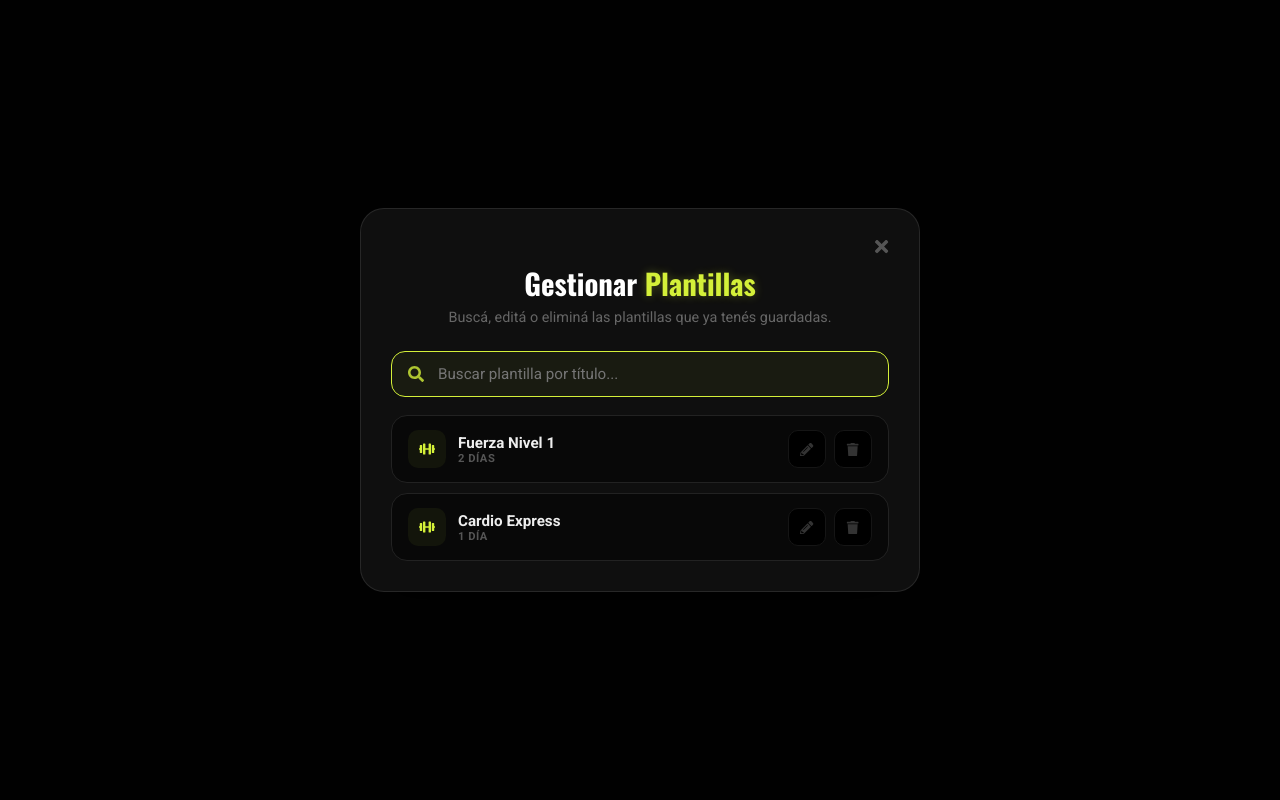
it: PlantillasModal — render y búsqueda › la búsqueda filtra por coincidencia parcial, sin importar mayúsculas/minúsculas
This screenshot has width=1280, height=800.
Step 1. Type "cardio" into the field with placeholder "Buscar plantilla por título..." → [654, 374], box [436,364,872,384]
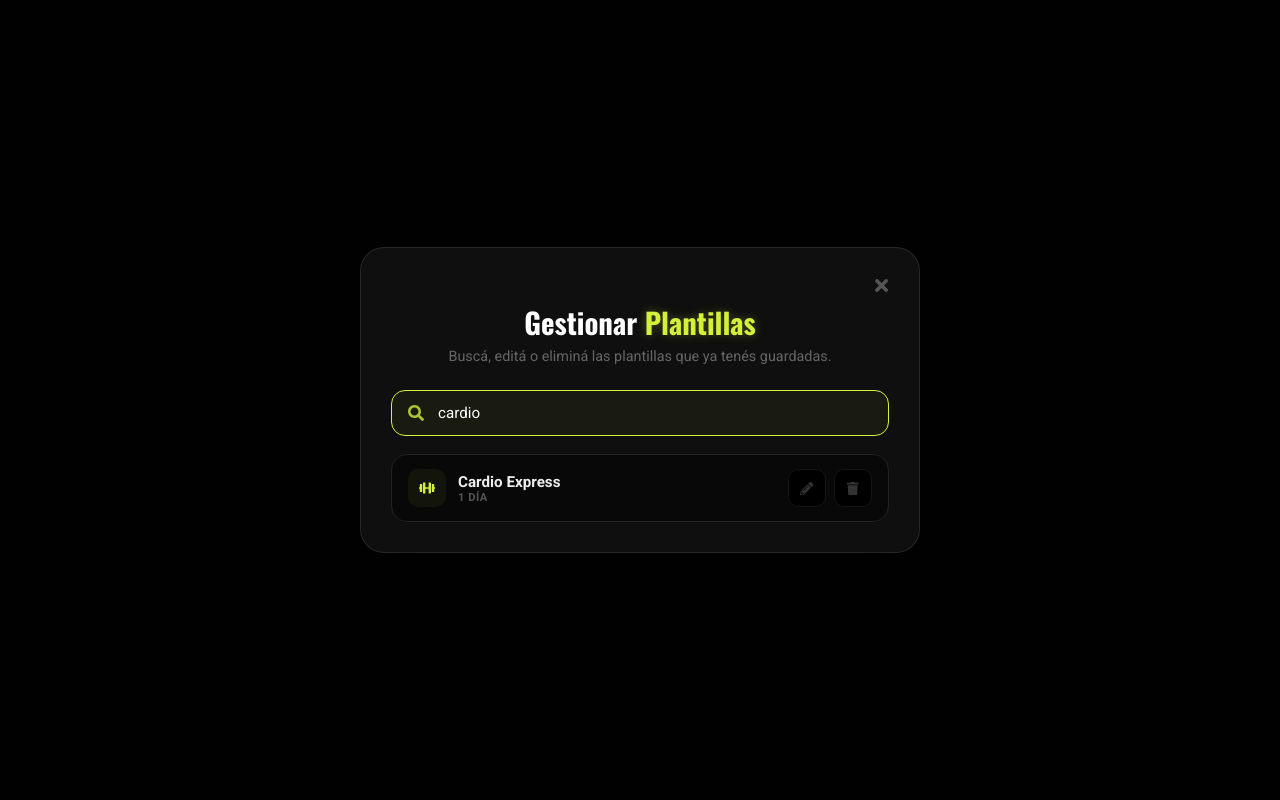
expect the text "Cardio Express" is shown: met, box [458,473,560,491]
expect the text "Fuerza Nivel 1" is gone: met
